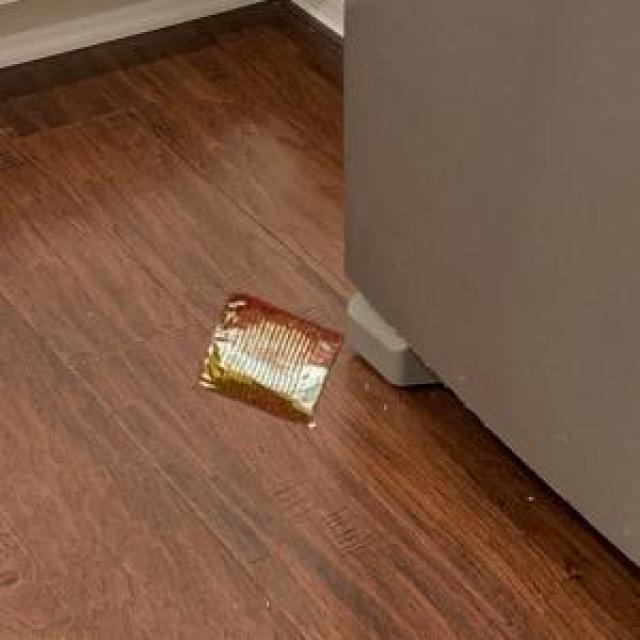Can: (197, 291, 340, 421)
